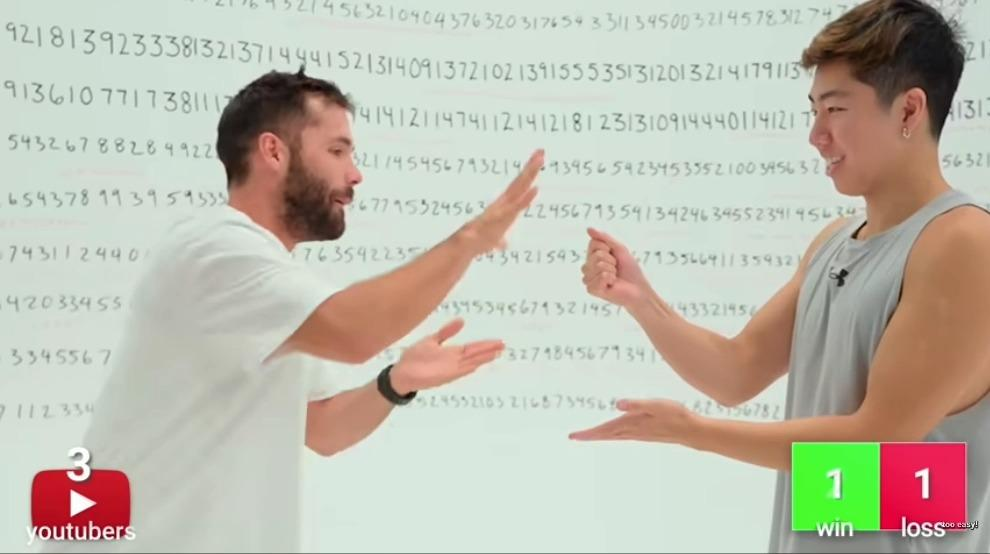Paper: (458, 147, 545, 254)
Rock: (581, 221, 643, 303)
